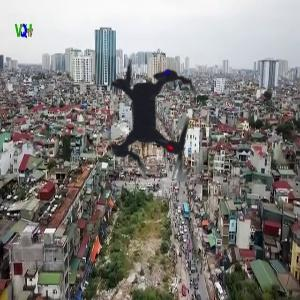drone: (58, 21, 255, 218)
